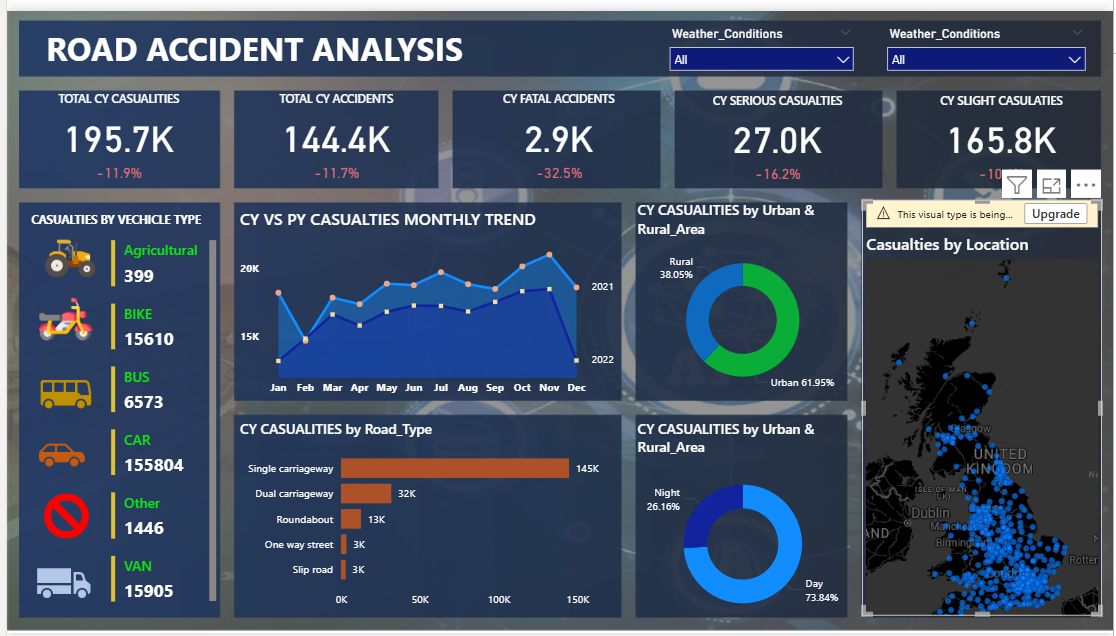

This screenshot's page, from the dashboard's own definition file:
{"tool":"powerbi","page":{"name":"Page 1","canvas":[1280,720],"ordinal":0},"visuals":[{"type":"group","id":"g1","title":"Group 1","box":[13.3,92.9,232.8,113.4],"z":0},{"type":"card","title":"TOTAL CY CASUALITIES","fields":{"Values":["AMeasure.CY CASUALITIES"]},"box":[13.3,92.9,232.8,84.5],"z":0,"group":"g1"},{"type":"card","title":"TOTAL CY ACCIDENTS","fields":{"Values":["A2Measure.CY ACCIDENT"]},"box":[265.4,92.9,232.8,84.5],"z":0,"group":"g2"},{"type":"card","title":"CY FATAL ACCIDENTS","fields":{"Values":["A1Measure.CY CASUALITIES"]},"box":[522.4,92.9,232.8,84.5],"z":0,"group":"g3"},{"type":"card","title":"CY SERIOUS CASUALTIES","fields":{"Values":["A1Measure.CY CASUALITIES"]},"box":[775.7,94.1,232.8,84.5],"z":0,"group":"g5"},{"type":"card","title":" CY SLIGHT CASULATIES","fields":{"Values":["A1Measure.CY CASUALITIES"]},"box":[1033.9,94.1,232.8,84.5],"z":0,"group":"g4"},{"type":"group","id":"g2","title":"Group 1","box":[265.4,92.9,232.8,113.4],"z":1000},{"type":"card","fields":{"Values":["AMeasure.YOY CASUALTIES"]},"box":[89.3,168.9,80.8,37.4],"z":1000,"group":"g1"},{"type":"card","fields":{"Values":["A2Measure.YOY ACCIDENT"]},"box":[341.4,168.9,80.8,37.4],"z":1000,"group":"g2"},{"type":"card","fields":{"Values":["A1Measure.YOY CASUALTIES"]},"box":[598.4,168.9,80.8,37.4],"z":1000,"group":"g3"},{"type":"card","fields":{"Values":["A1Measure.YOY CASUALTIES"]},"box":[851.7,170.1,80.8,37.4],"z":1000,"group":"g5"},{"type":"card","fields":{"Values":["A1Measure.YOY CASUALTIES"]},"box":[1109.9,170.1,80.8,37.4],"z":1000,"group":"g4"},{"type":"group","id":"g3","title":"Group 1","box":[522.4,92.9,232.8,113.4],"z":2000},{"type":"group","id":"g4","title":"Group 1","box":[1033.9,94.1,232.8,113.4],"z":3000},{"type":"group","id":"g5","title":"Group 1","box":[775.7,94.1,232.8,113.4],"z":4000},{"type":"textbox","box":[41.2,13.7,638.1,65.9],"z":5000},{"type":"multiRowCard","fields":{"Values":["Data.Vehicle_Type (groups)","A1Measure.CY CASUALITIES"]},"box":[115.3,260.7,131.7,439.1],"z":6000},{"type":"image","box":[30.2,249.7,85.1,71.4],"z":7000},{"type":"image","box":[13.7,321.1,109.8,71.4],"z":8000},{"type":"image","box":[12.3,406.2,111.1,74.1],"z":9000},{"type":"image","box":[13.7,480.3,101.5,67.2],"z":10000},{"type":"image","box":[13.7,623,105.7,76.8],"z":11000},{"type":"image","box":[23.3,547.5,91.9,75.5],"z":12000},{"type":"textbox","box":[23.3,226.4,223.7,34.3],"z":13000},{"type":"areaChart","title":"CY VS PY CASUALTIES MONTHLY TREND","fields":{"Category":["Calendar.MONTH"],"Y":["Sum(Data.Number_of_Casualties)"],"Series":["Calendar.Date.Variation.Date Hierarchy.Year"]},"box":[264.8,226.4,446,226.4],"z":14000},{"type":"donutChart","title":"CY CASUALITIES by Urban & Rural_Area","fields":{"Y":["A1Measure.CY CASUALITIES"],"Category":["Data.Urban_or_Rural_Area"]},"box":[724.5,218.1,253.8,235.3],"z":15000},{"type":"donutChart","title":"CY CASUALITIES by Urban & Rural_Area","fields":{"Y":["A1Measure.CY CASUALITIES"],"Category":["Data.Light_Conditions (groups)"]},"box":[724.5,471.9,253.8,247.7],"z":16000},{"type":"barChart","fields":{"Category":["Data.Road_Type"],"Y":["A1Measure.CY CASUALITIES"]},"box":[264.9,471.9,446.1,228],"z":17000},{"type":"slicer","fields":{"Values":["Data.Weather_Conditions (groups)"]},"box":[1008.6,13.3,249.7,57.9],"z":18000},{"type":"slicer","fields":{"Values":["Data.Road_Surface_Conditions (groups)"]},"box":[756.1,13.7,233.3,57.6],"z":19000},{"type":"map","title":"Casualties by Location","fields":{"Y":["Data.Latitude"],"X":["Data.Longitude"],"Category":["Data.Local_Authority_(District)"]},"box":[989.5,218.4,277.8,481.7],"z":20000}]}

Visuals, with their boxes in screenshot pixels (x1, y1, x2, y2), scaled from the page's 1280x720 canvas onto the 1116x636 screenshot:
"Group 1" group: 12:82:215:182
"TOTAL CY CASUALITIES" card: 12:82:215:157
"TOTAL CY ACCIDENTS" card: 231:82:434:157
"CY FATAL ACCIDENTS" card: 455:82:658:157
"CY SERIOUS CASUALTIES" card: 676:83:879:158
" CY SLIGHT CASULATIES" card: 901:83:1104:158
"Group 1" group: 231:82:434:182
card - AMeasure.YOY CASUALTIES: 78:149:148:182
card - A2Measure.YOY ACCIDENT: 298:149:368:182
card - A1Measure.YOY CASUALTIES: 522:149:592:182
card - A1Measure.YOY CASUALTIES: 743:150:813:183
card - A1Measure.YOY CASUALTIES: 968:150:1038:183
"Group 1" group: 455:82:658:182
"Group 1" group: 901:83:1104:183
"Group 1" group: 676:83:879:183
textbox: 36:12:592:70
multiRowCard - Data.Vehicle_Type (groups) x A1Measure.CY CASUALITIES: 101:230:215:618
image: 26:221:101:284
image: 12:284:108:347
image: 11:359:108:424
image: 12:424:100:484
image: 12:550:104:618
image: 20:484:100:550
textbox: 20:200:215:230
"CY VS PY CASUALTIES MONTHLY TREND" areaChart: 231:200:620:400
"CY CASUALITIES by Urban & Rural_Area" donutChart: 632:193:853:401
"CY CASUALITIES by Urban & Rural_Area" donutChart: 632:417:853:635
barChart - Data.Road_Type x A1Measure.CY CASUALITIES: 231:417:620:618
slicer - Data.Weather_Conditions (groups): 879:12:1097:63
slicer - Data.Road_Surface_Conditions (groups): 659:12:863:63
"Casualties by Location" map: 863:193:1105:618
